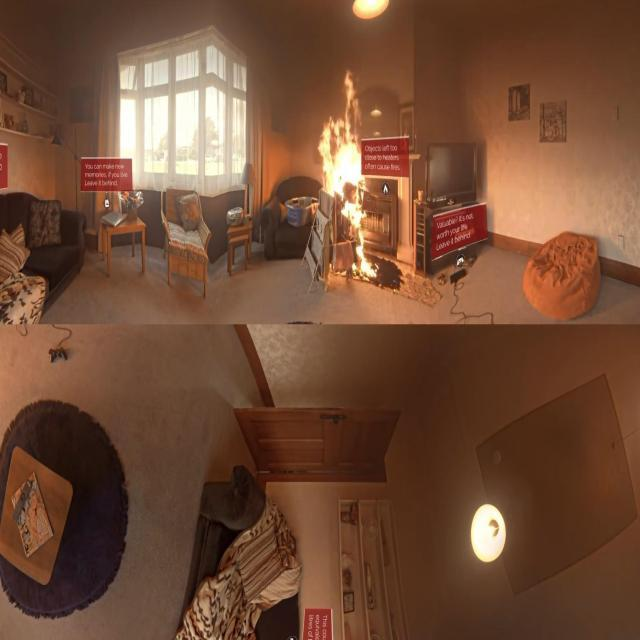smoke: (317, 68, 380, 282)
